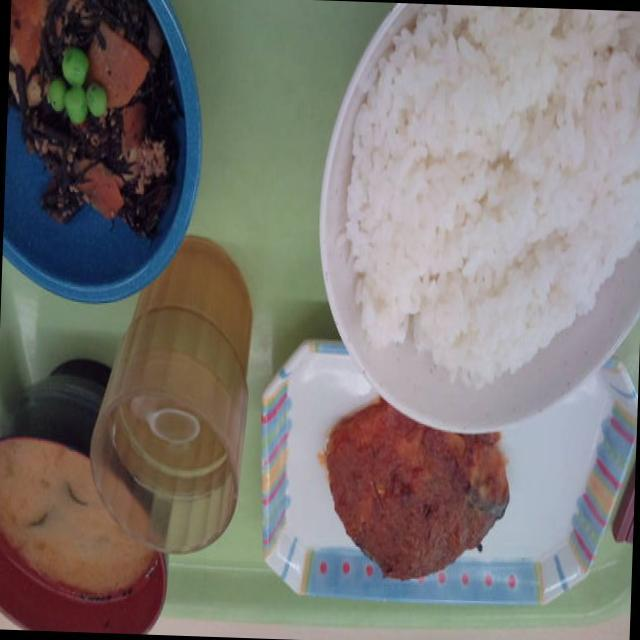Rice: (333, 1, 640, 398)
